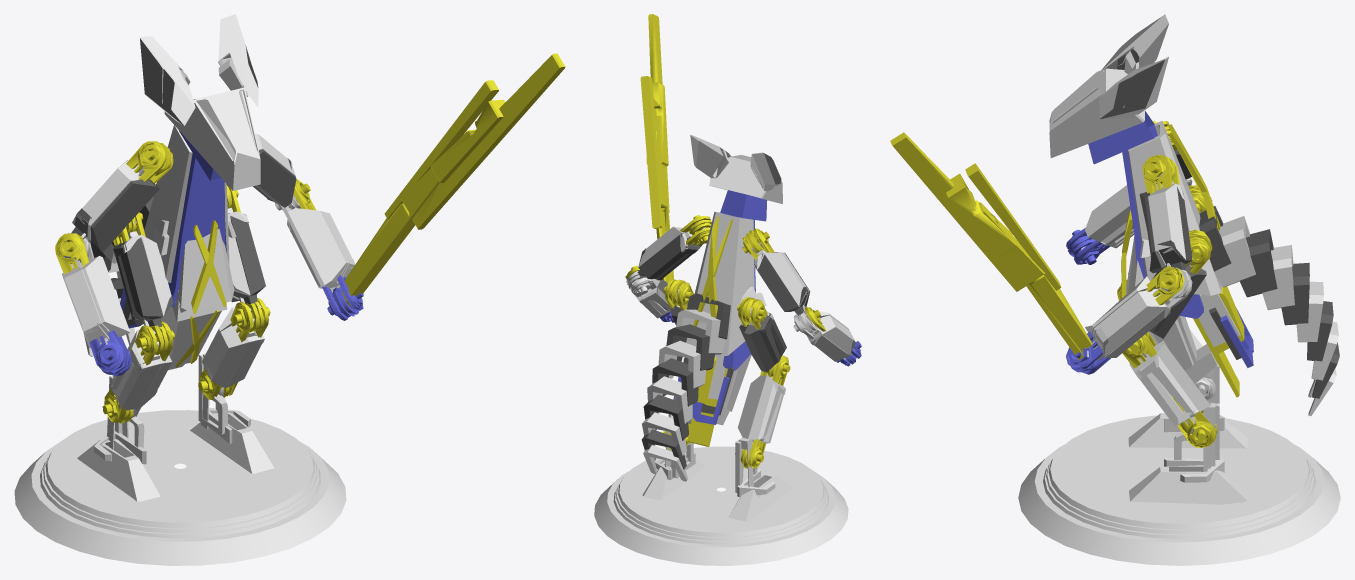
The model's file is lowpoly_player.fbx.
The picture shows the model from 3 angles, left to right: view 1: azimuth 30°, elevation 25°; view 2: azimuth 150°, elevation 25°; view 3: azimuth 270°, elevation 25°; orthographic projection. The views are drawn at different scales.
Parts seen in each view (by area): view 1: Circle, Circle.001; view 2: Circle, Circle.001; view 3: Circle, Circle.001.
Boxes of the visible parts, left/top/right/bottom form: Circle: left=55, top=14, right=565, bottom=501; Circle.001: left=14, top=410, right=346, bottom=565; Circle: left=625, top=14, right=861, bottom=521; Circle.001: left=594, top=446, right=848, bottom=565; Circle: left=890, top=14, right=1339, bottom=504; Circle.001: left=1018, top=415, right=1340, bottom=565.
Size of the model in its own units: 228 by 280 by 241.
